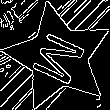M_SE: (25, 26, 92, 89)
